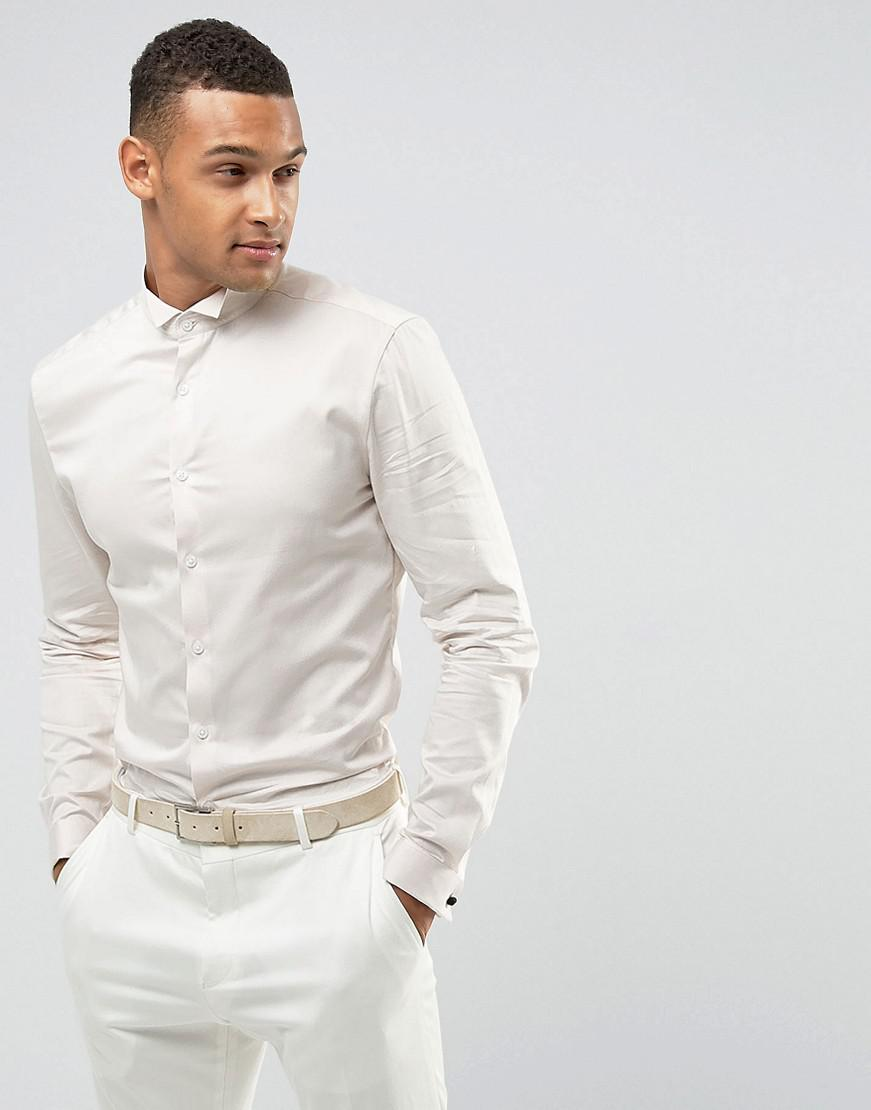teeshirt: (40, 269, 544, 903)
